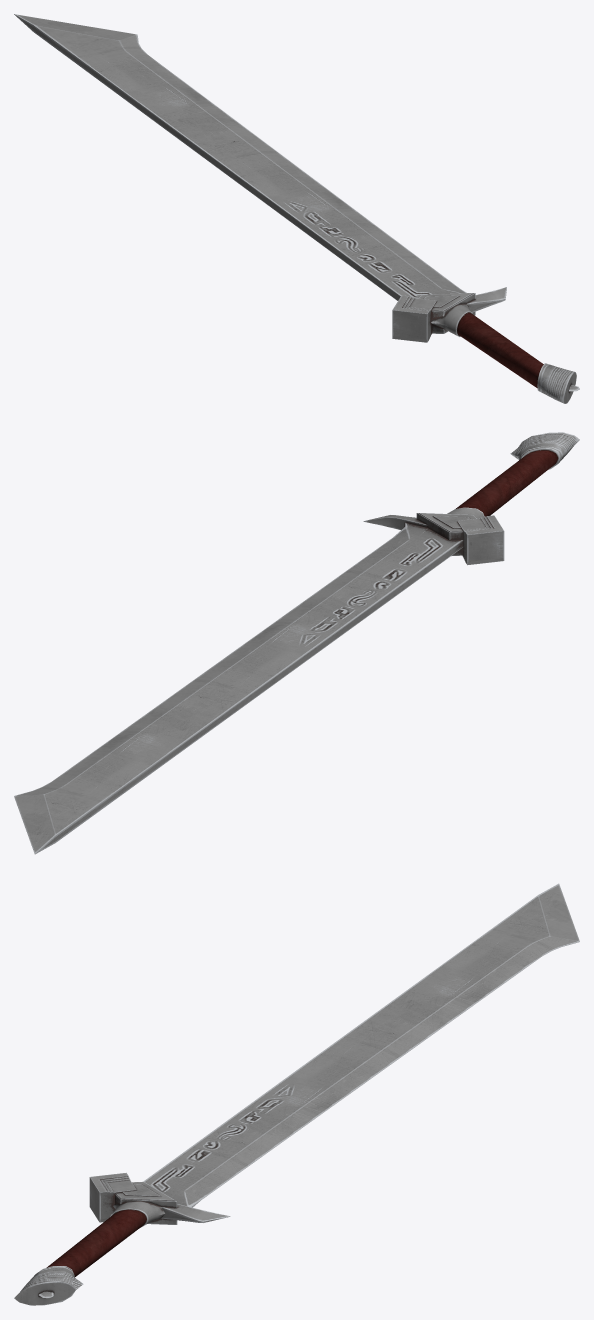
The model's file is sword.glb.
3 renders of one model, top to bottom at view 1: azimuth 30°, elevation 25°; view 2: azimuth 150°, elevation 25°; view 3: azimuth 330°, elevation 25°, orthographic. The views are drawn at different scales.
Visible parts, largest first — view 1: LP_Sword_Material.001_0; view 2: LP_Sword_Material.001_0; view 3: LP_Sword_Material.001_0.
Boxes of the visible parts, bbox=[...] form: LP_Sword_Material.001_0: bbox=[14, 14, 579, 403]; LP_Sword_Material.001_0: bbox=[14, 432, 579, 854]; LP_Sword_Material.001_0: bbox=[14, 883, 579, 1305].
Bounding box in the file's own units: 0.1185 × 0.0262 × 0.8818.
Materials: 1 (1 with a texture image).
